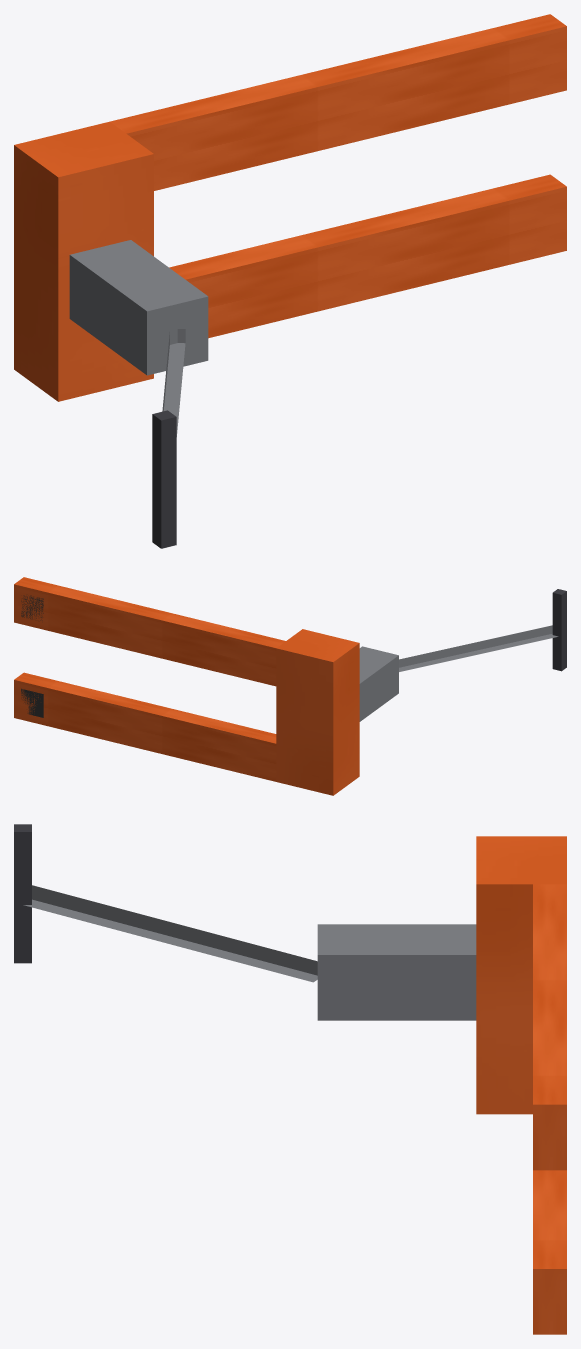
File: pallet_jack.gltf
3 views of the same model, one above another, from view 1: azimuth 30°, elevation 25°; view 2: azimuth 150°, elevation 25°; view 3: azimuth 270°, elevation 25° (orthographic). The views are drawn at different scales.
Visible parts, largest first — view 1: pallet_jack; view 2: pallet_jack; view 3: pallet_jack.
Part boxes in pixels (x1=…): pallet_jack: x1=14, y1=14, x2=566, y2=548; pallet_jack: x1=14, y1=577, x2=566, y2=795; pallet_jack: x1=14, y1=824, x2=566, y2=1334.
Size of the model in its own units: 1.72 by 0.56 by 1.22.
Materials: 4 (1 with a texture image).
